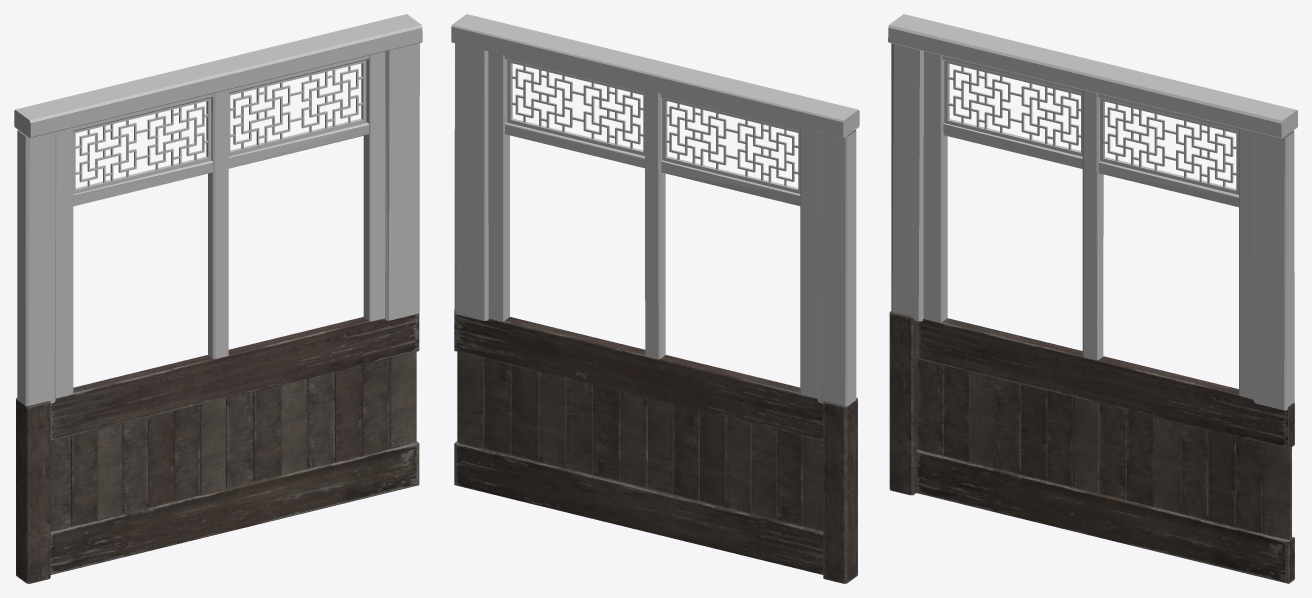
The model's file is DoorFrame_3.fbx.
3 renders of one model, left to right at view 1: azimuth 30°, elevation 25°; view 2: azimuth 150°, elevation 25°; view 3: azimuth 330°, elevation 25°, orthographic.
Visible parts, largest first — view 1: 3D_MenKuang4.mo; view 2: 3D_MenKuang4.mo; view 3: 3D_MenKuang4.mo.
Part boxes in pixels (left/top/right/bottom): 3D_MenKuang4.mo: left=14, top=14, right=422, bottom=583; 3D_MenKuang4.mo: left=451, top=14, right=859, bottom=583; 3D_MenKuang4.mo: left=888, top=14, right=1297, bottom=583.
Bounding box in the file's own units: 376 × 422 × 26.62.
